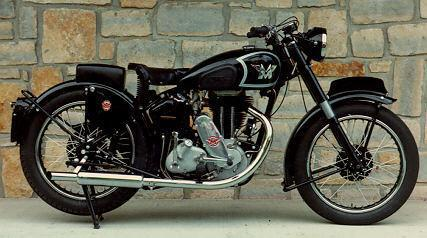motorcycle: (10, 12, 427, 229)
